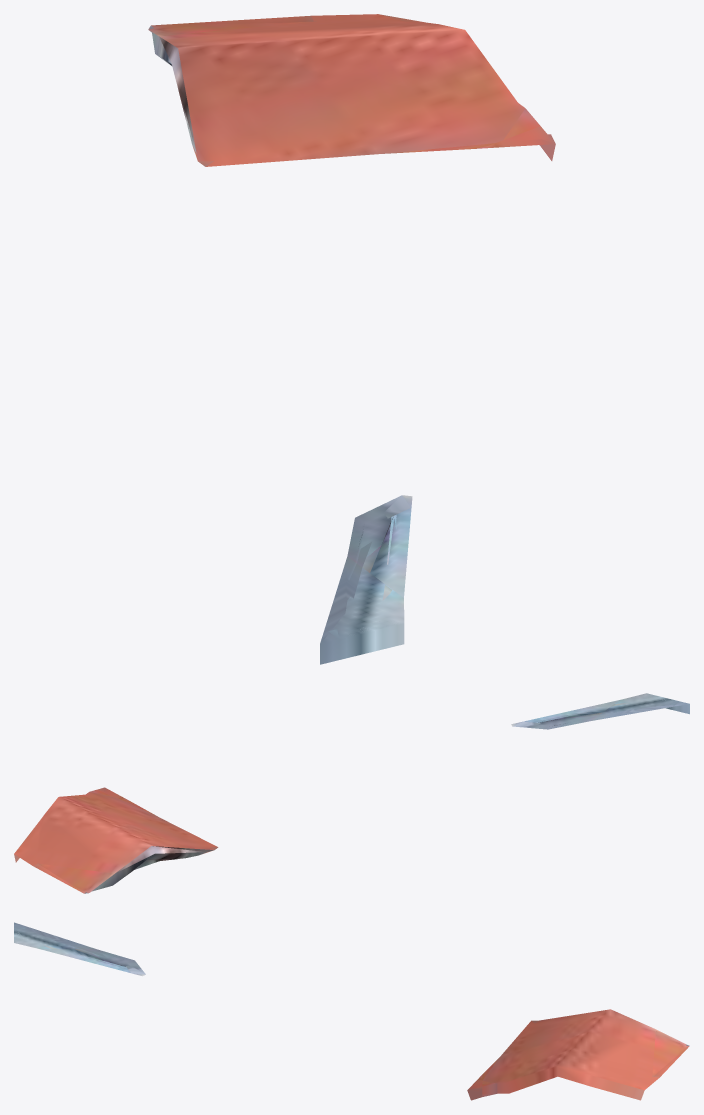
3 renders of one model, top to bottom at view 1: azimuth 30°, elevation 25°; view 2: azimuth 150°, elevation 25°; view 3: azimuth 270°, elevation 25°, orthographic. The views are drawn at different scales.
Parts seen in each view (by area): view 1: 30436272704370616627_0; view 2: 30436272704370616627_0; view 3: 30436272704370616627_0.
Part boxes in pixels (left/top/right/bottom): 30436272704370616627_0: left=148, top=14, right=555, bottom=664; 30436272704370616627_0: left=14, top=693, right=689, bottom=893; 30436272704370616627_0: left=14, top=922, right=689, bottom=1100.
Bounding box in the file's own units: 16.41 × 1.55 × 27.62.
1 material, 1 textured.
